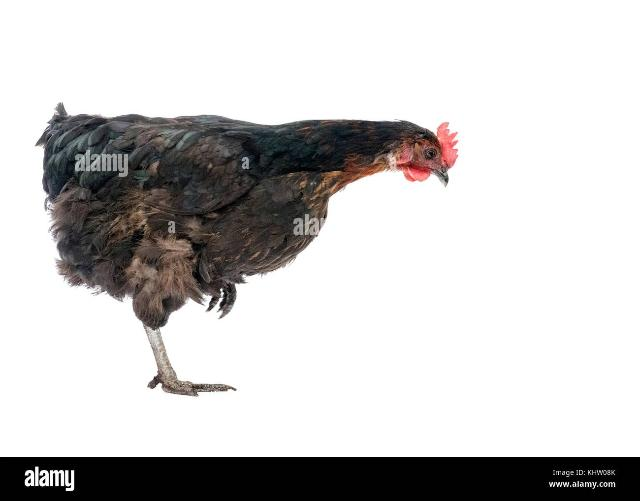Chicken: (36, 101, 460, 399)
